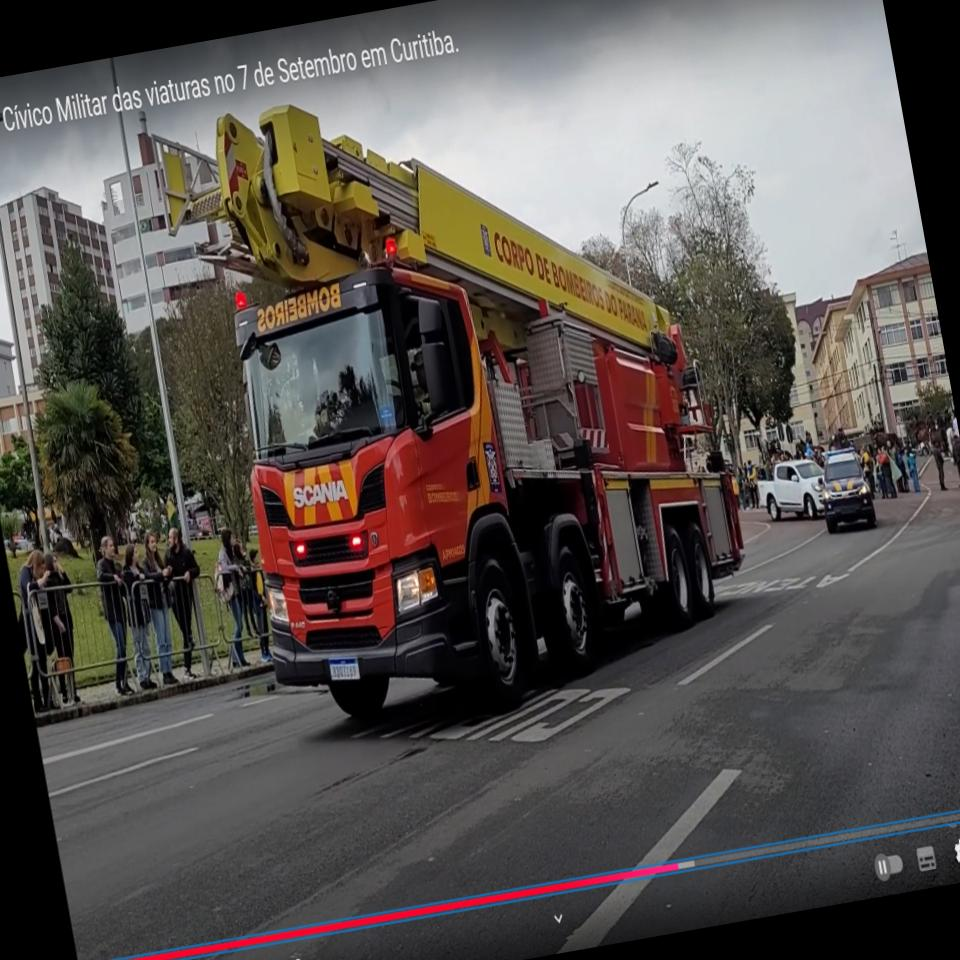viatura: (148, 42, 764, 756)
